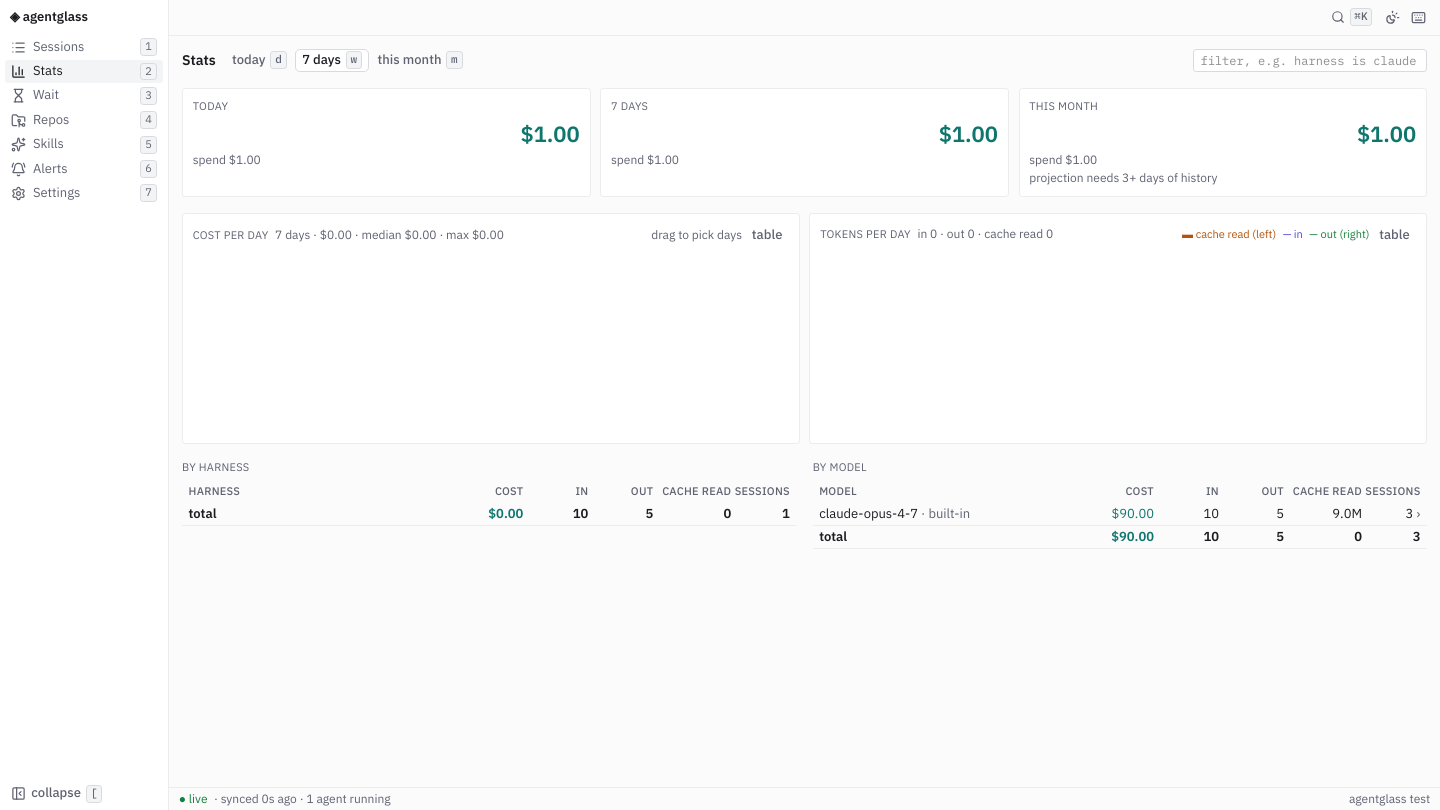
Test: a model row opens its projects and sessions; a session links to its drawer
The image size is (1440, 810).
Click the text "claude-opus-4-7".
click(1120, 515)  # box x1=813 y1=503 x2=1427 y2=526
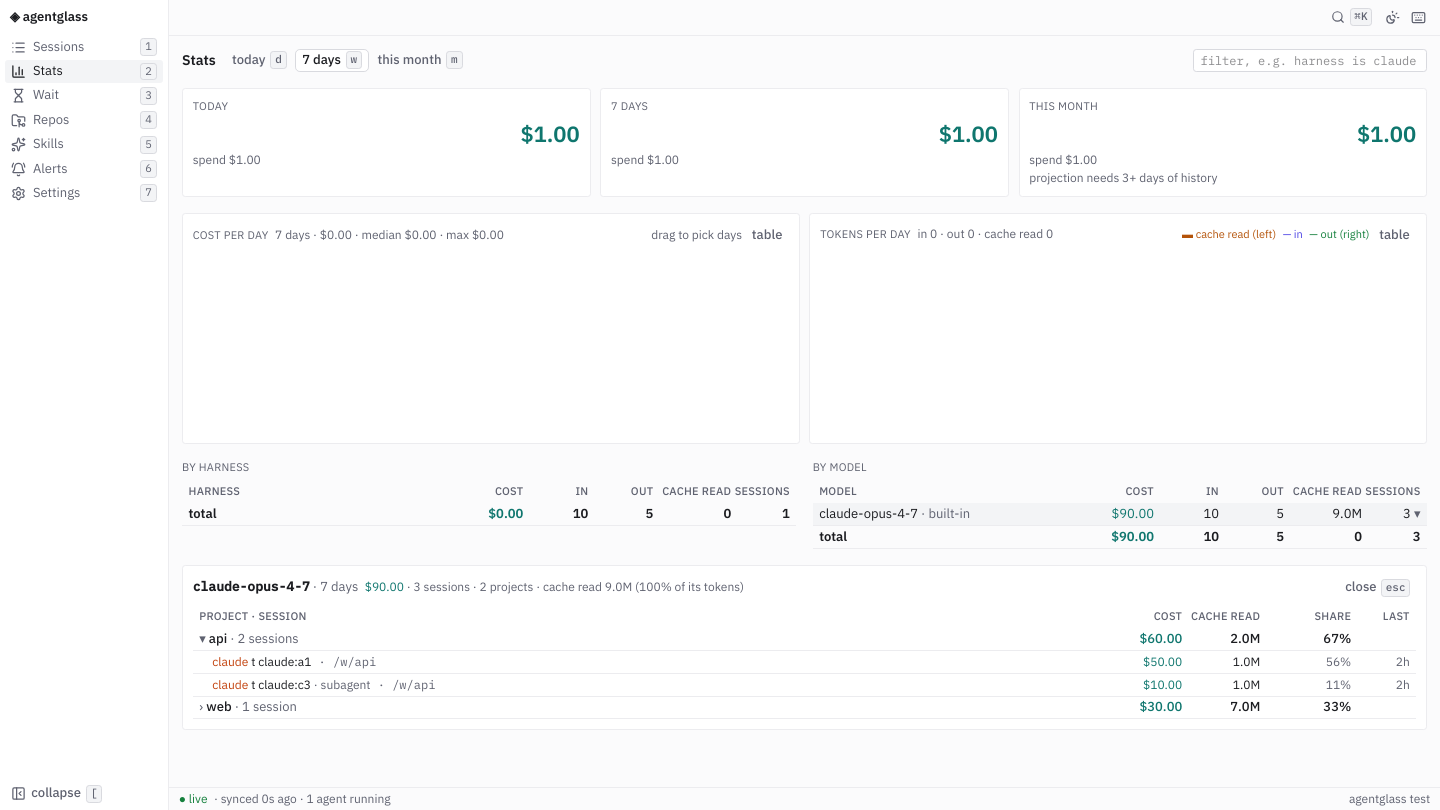
Expected: the text "claude-opus-4-7" is shown, x1=193 y1=578 x2=310 y2=595
Expected: the row "▾ api · 2 sessions $60.00 2.0M 67%" is shown, x1=193 y1=628 x2=1416 y2=651
Expected: the row "claude t claude:a1 · /w/api $50.00 1.0M 56% 2h" is shown, x1=193 y1=651 x2=1416 y2=674
